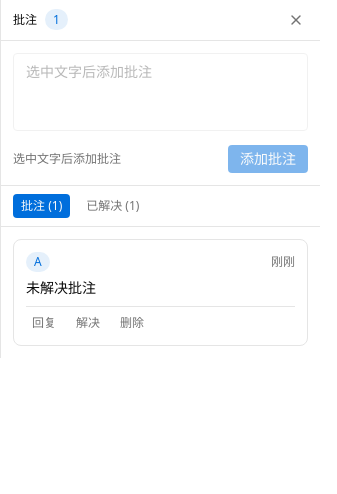
CommentPanel › 筛选功能 › 点击「已解决」显示已解决批注
Click the button "已解决 (1)" at [113, 206], box [78, 194, 147, 218]
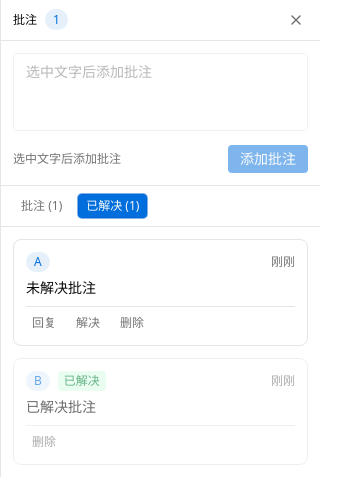
Expected: the text "未解决批注" is shown, [26, 278, 96, 297]
Expected: the text "已解决批注" is shown, [26, 397, 96, 416]
